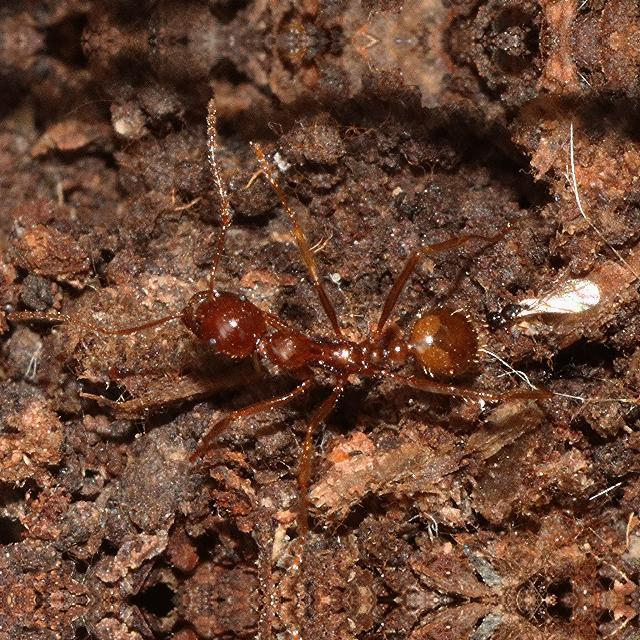Apheanogaster: (153, 250, 512, 438)
